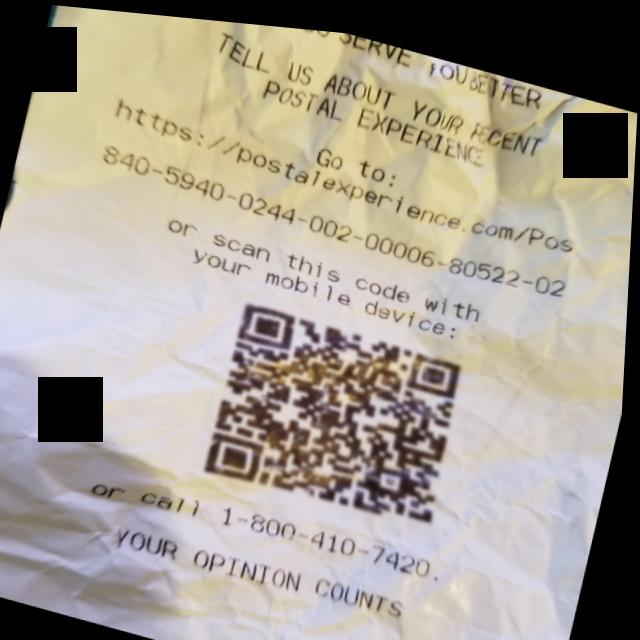QR_CODE: (189, 276, 489, 542)
